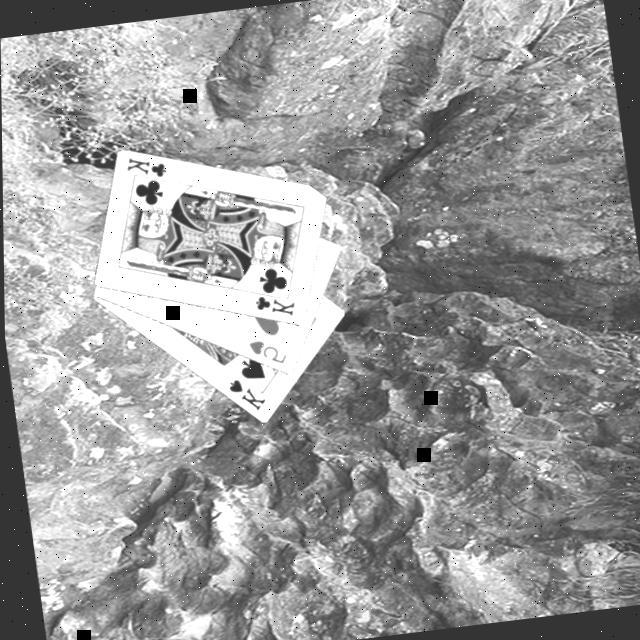5H: (245, 334, 291, 371)
KC: (123, 151, 174, 191), (250, 284, 300, 324)
KS: (223, 373, 271, 418)
